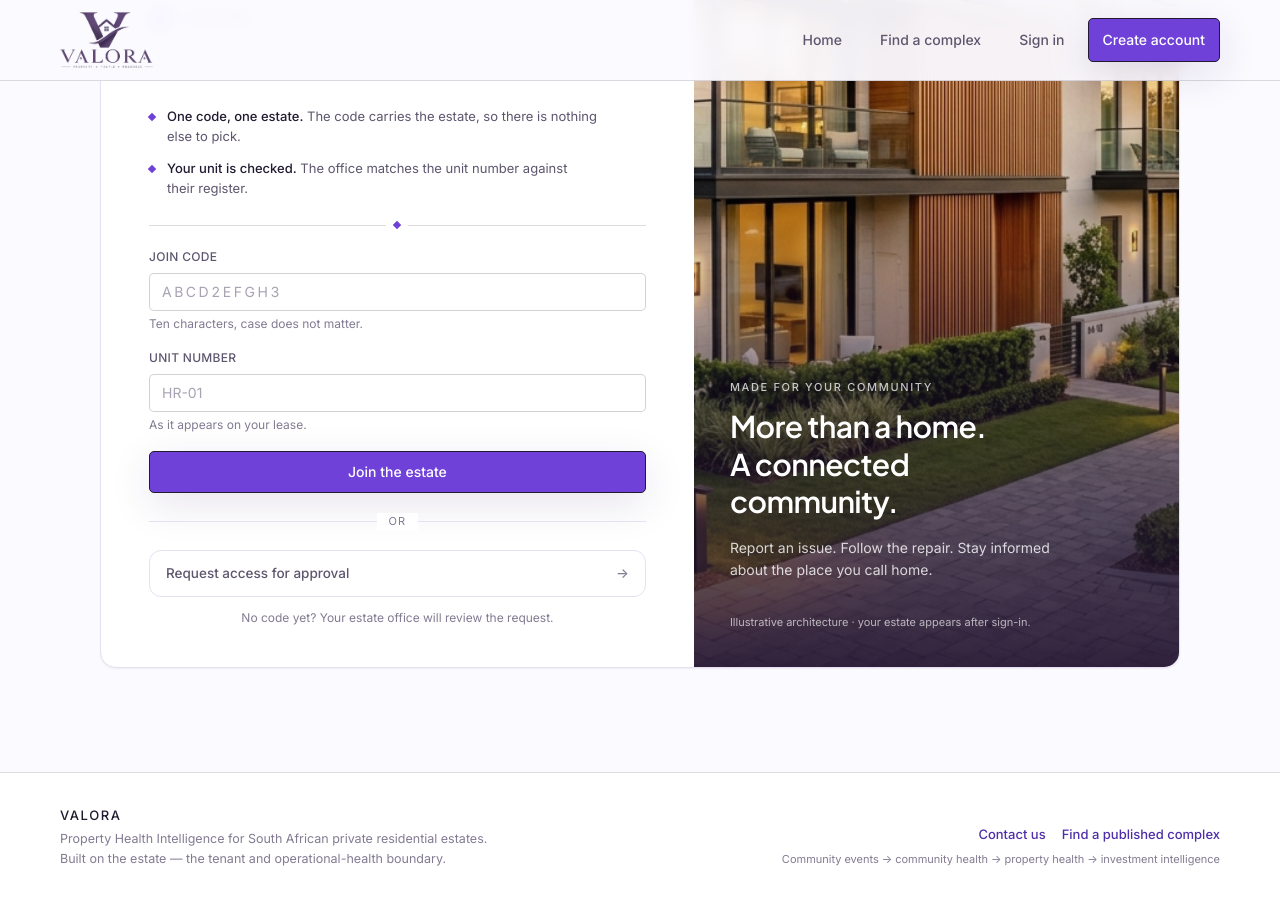
Test: Join › checks both fields before spending one of the five attempts
(page scrolled)
Click the button "Join the estate": [397, 472] box [149, 450, 646, 492]
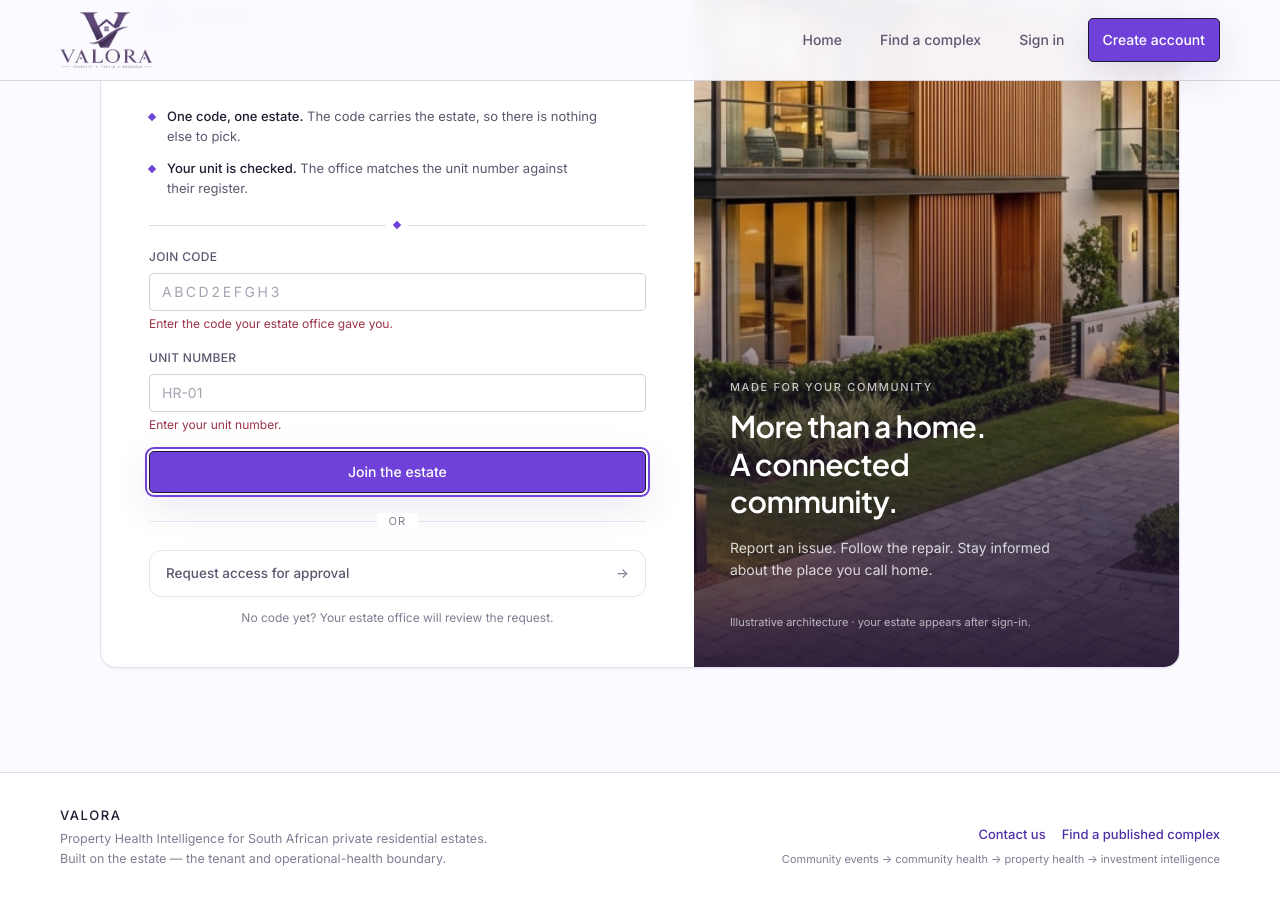
Check: the text "Enter the code your estate office gave you." is shown, box [149, 316, 393, 331]
Check: the text "Enter your unit number." is shown, box [149, 417, 281, 432]
